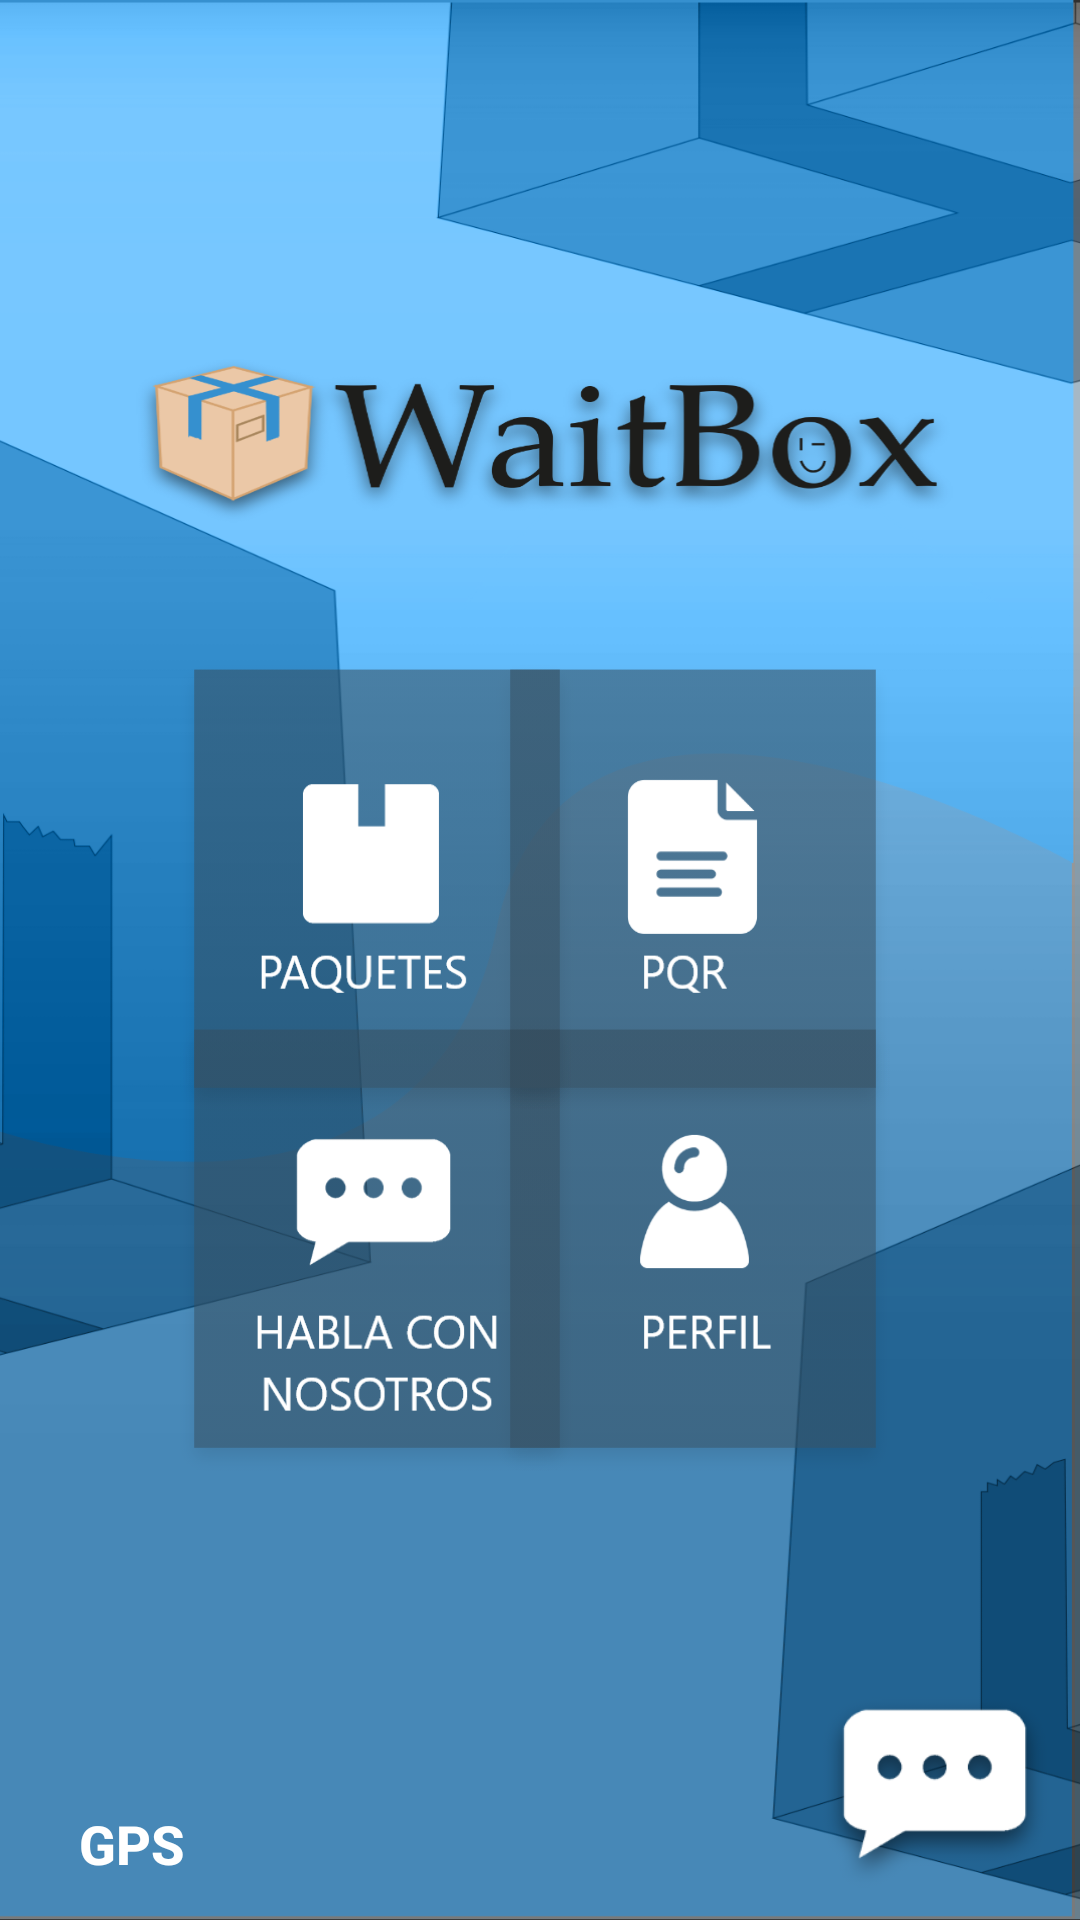

Point at icon controls on the screen. Image size 1080px×1920px, points as point (x, y).
chat bubbles with ellipsis: point (940, 1801)
